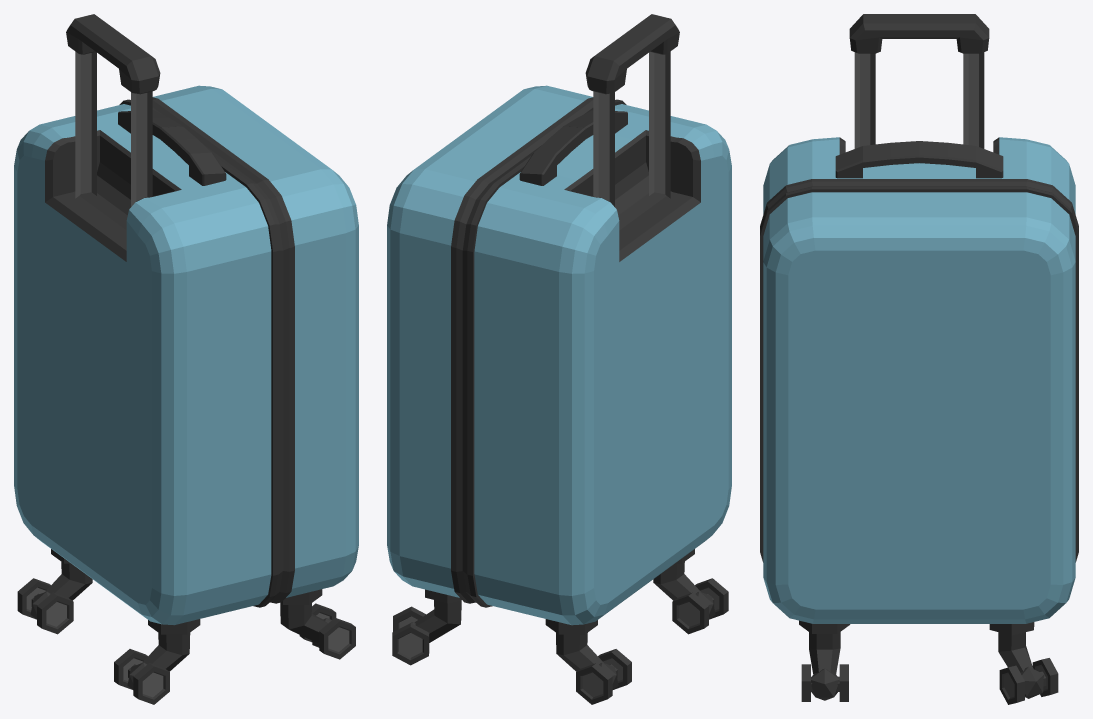
File: Suitcase.glb
3 renders of one model, left to right at view 1: azimuth 30°, elevation 25°; view 2: azimuth 150°, elevation 25°; view 3: azimuth 270°, elevation 25°, orthographic. The views are drawn at different scales.
Parts seen in each view (by area): view 1: Suitcase; view 2: Suitcase; view 3: Suitcase.
Part boxes in pixels (<box>): Suitcase: <box>14,14,358,704</box>; Suitcase: <box>387,14,731,704</box>; Suitcase: <box>760,14,1078,704</box>.
Bounding box in the file's own units: 0.5177 × 1.36 × 0.6504.
